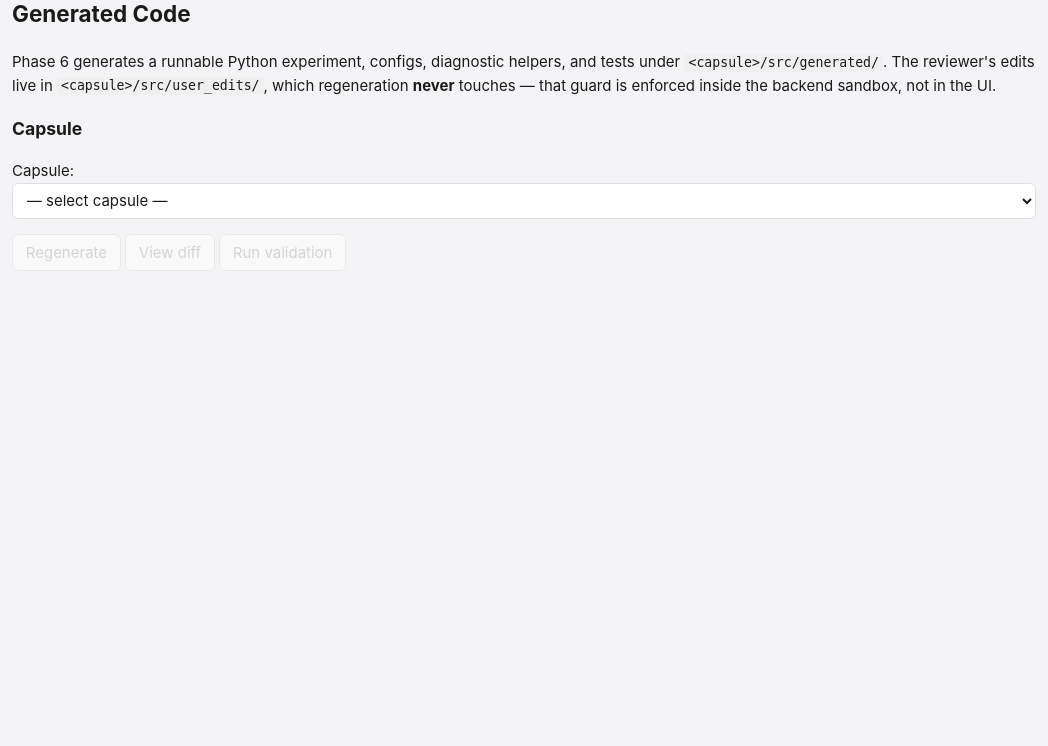
Test case: GeneratedCodeView › saves a user_edits/ file via the editor and reports the saved path
The width and height of the screenshot is (1048, 746).
Step 1. Select "demo.lxp" in the dropdown labelled "Capsule:" → (524, 201), box [12,183,1036,219]
(page scrolled)
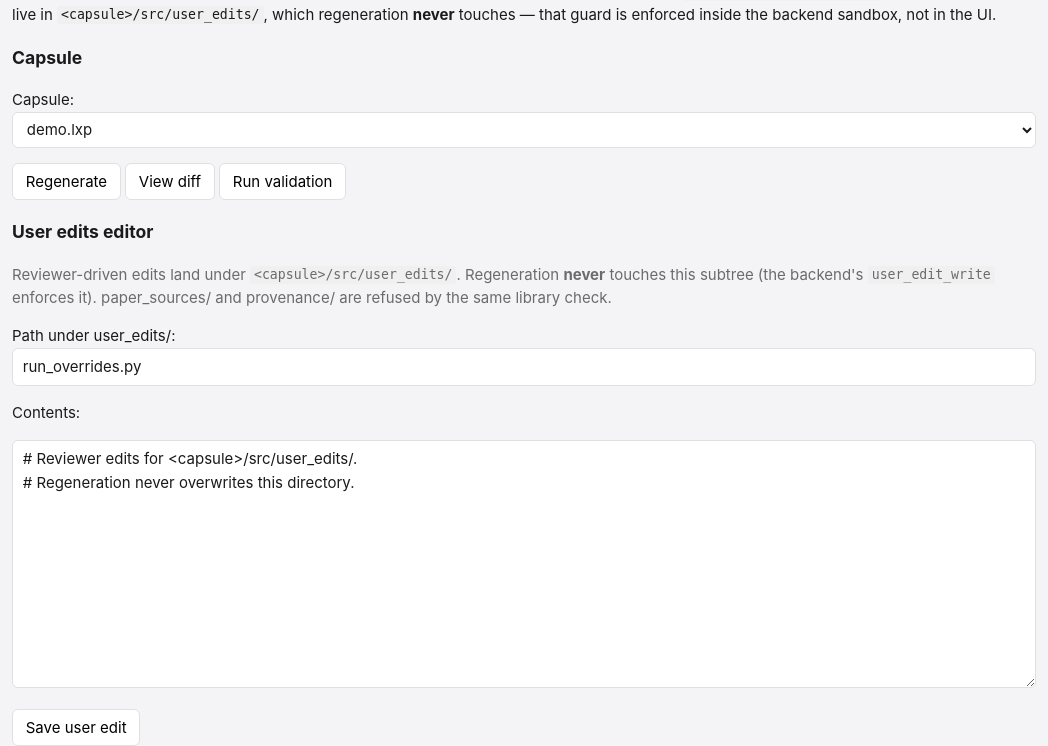
Step 2. Click the button "Save user edit" → (76, 728), box [12,709,140,745]
(page scrolled)
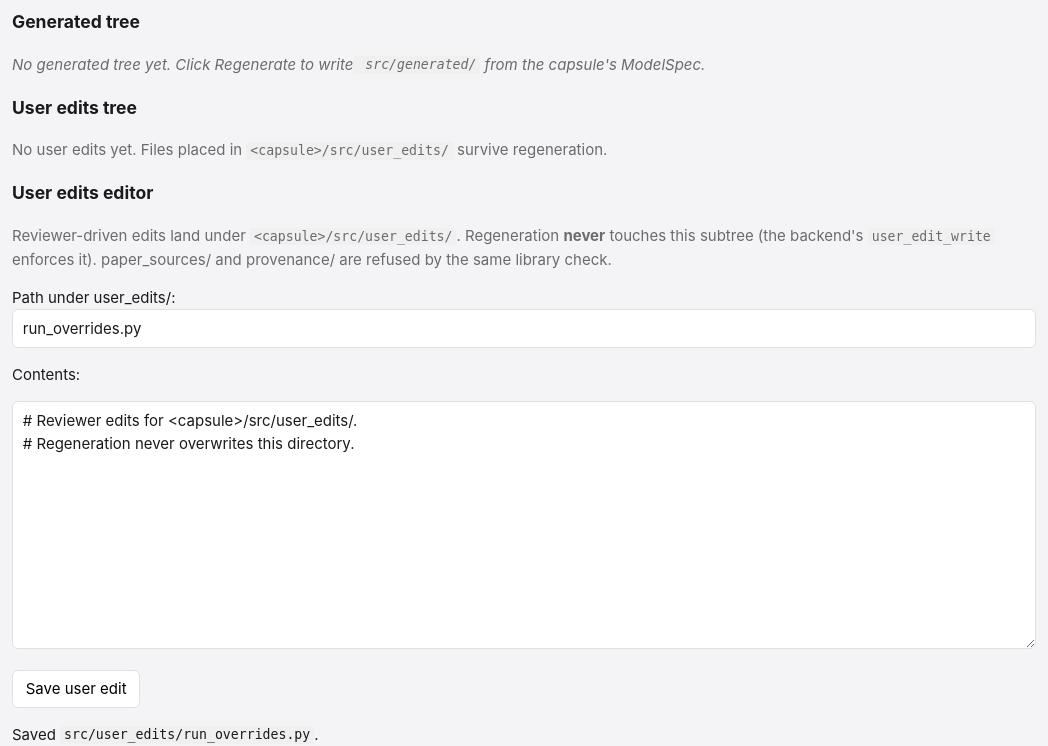
Result: the text "src/user_edits/run_overrides.py" is shown at [60,726,314,744]
